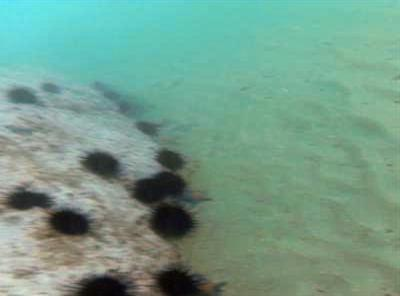urchin: (45, 204, 99, 241), (152, 263, 202, 296), (154, 201, 194, 239), (75, 270, 132, 296), (85, 148, 125, 182), (156, 170, 187, 196), (7, 84, 40, 107), (155, 145, 185, 170), (137, 175, 164, 201), (134, 119, 159, 137)
